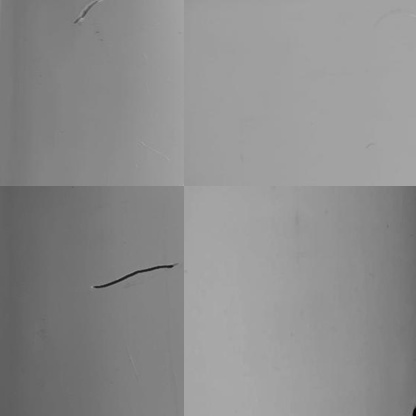fengxi: (93, 263, 174, 291)
sunshang: (73, 1, 98, 25)
